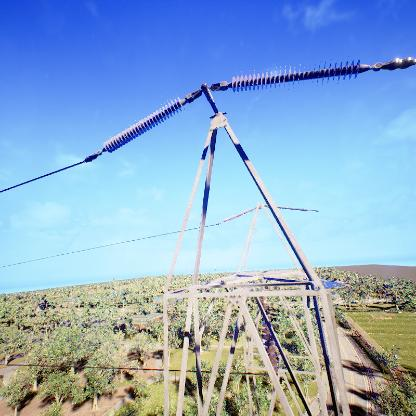insulator: (103, 95, 185, 156), (230, 57, 362, 94)
